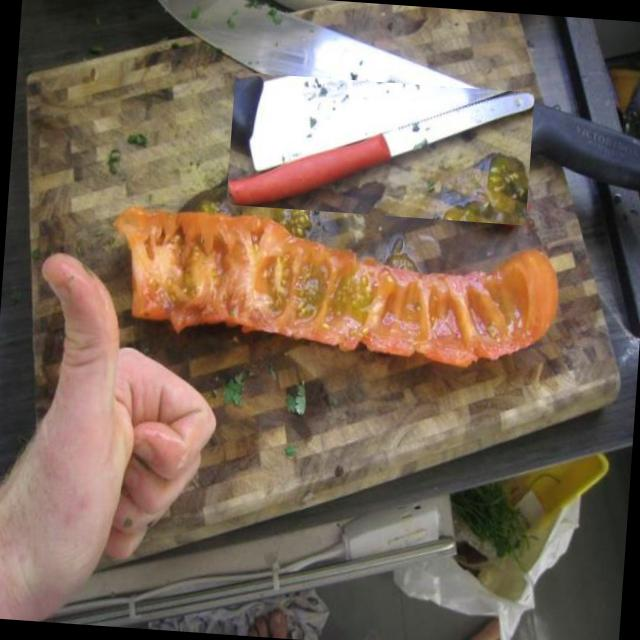Knife: (158, 0, 640, 190), (228, 92, 534, 205)
